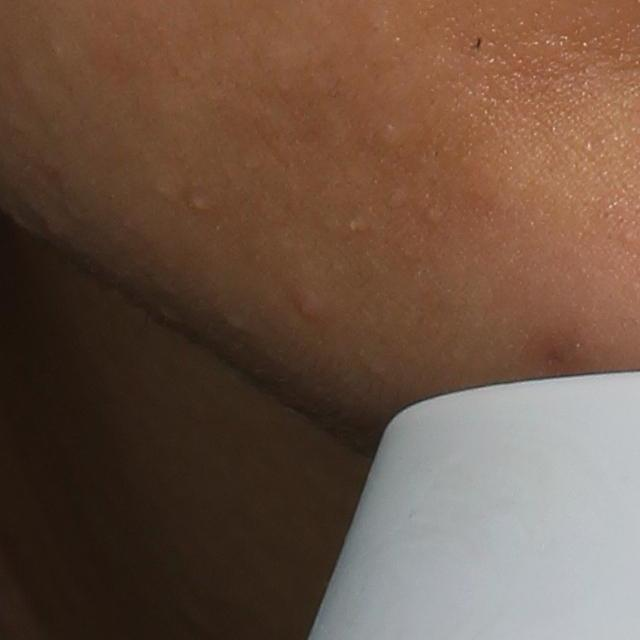comedo: (420, 203, 449, 223)
papule: (288, 293, 324, 324)
